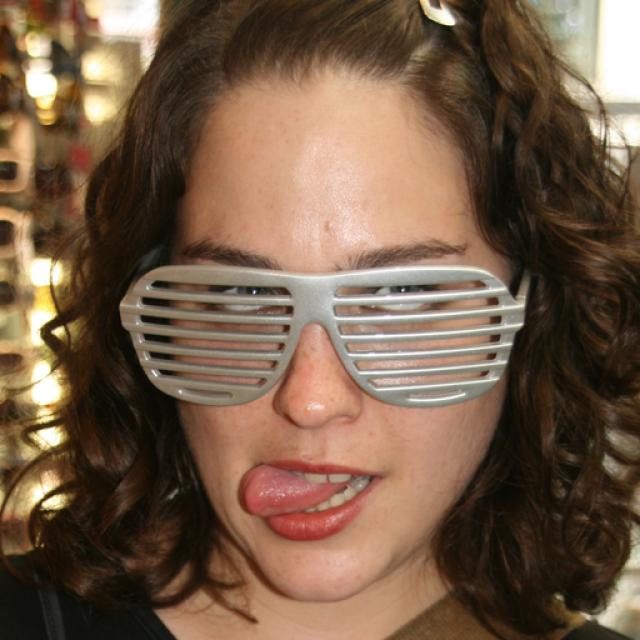Acne: (318, 218, 340, 237)
